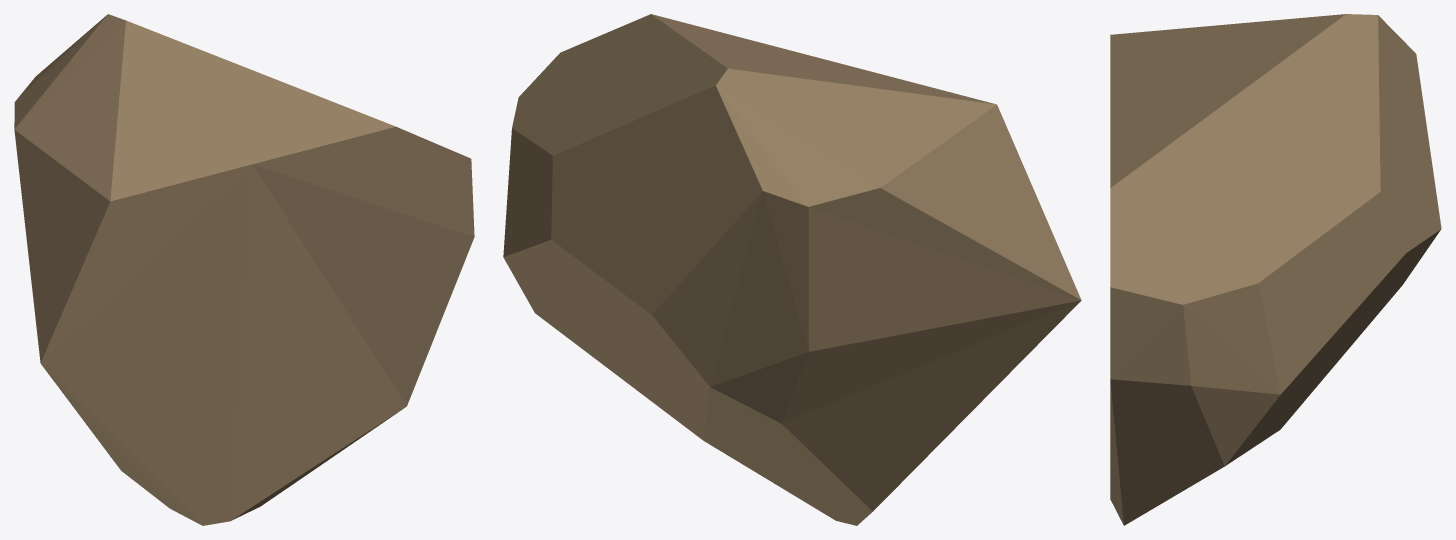
File: Rock01.fbx
3 views of the same model, side by side, from view 1: azimuth 30°, elevation 25°; view 2: azimuth 150°, elevation 25°; view 3: azimuth 270°, elevation 25° (orthographic). The views are drawn at different scales.
Visible parts, largest first — view 1: Rock01; view 2: Rock01; view 3: Rock01.
Part boxes in pixels (bbox=[...]): Rock01: bbox=[14, 14, 474, 525]; Rock01: bbox=[503, 14, 1081, 525]; Rock01: bbox=[1110, 14, 1441, 525].
Bounding box in the file's own units: 9.49 × 8.88 × 5.49.
